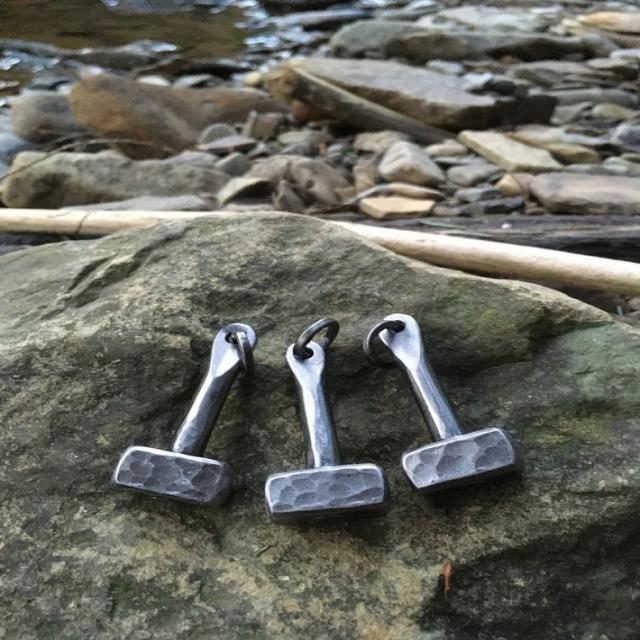hammer: (364, 293, 538, 511), (104, 314, 264, 516), (256, 304, 392, 536)
